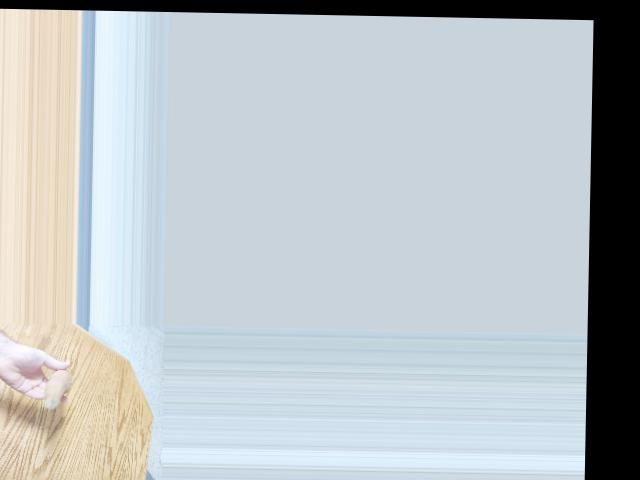sweet_potato: (40, 366, 67, 409)
